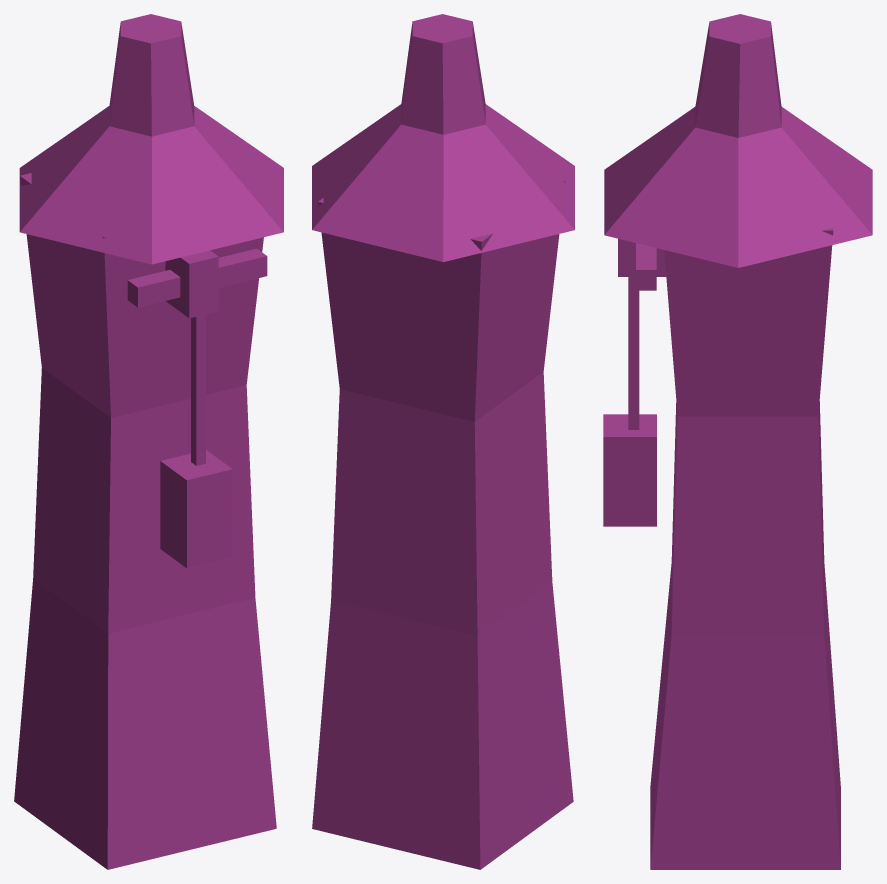
The model's file is SM_Bld_Mine_Tower_01_Collision.fbx.
3 views of the same model, side by side, from view 1: azimuth 30°, elevation 25°; view 2: azimuth 150°, elevation 25°; view 3: azimuth 270°, elevation 25° (orthographic). The views are drawn at different scales.
Visible parts, largest first — view 1: SM_Bld_Mine_Tower_01_Collision; view 2: SM_Bld_Mine_Tower_01_Collision; view 3: SM_Bld_Mine_Tower_01_Collision.
Part boxes in pixels (<box>): SM_Bld_Mine_Tower_01_Collision: <box>14,14,283,869</box>; SM_Bld_Mine_Tower_01_Collision: <box>312,14,574,869</box>; SM_Bld_Mine_Tower_01_Collision: <box>603,14,872,869</box>.
Bounding box in the file's own units: 421 × 1200 × 366.
